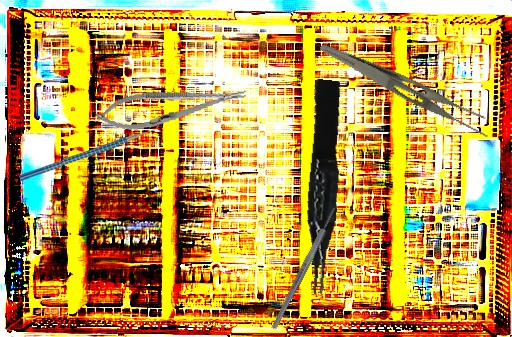Chopper: (18, 116, 163, 182)
Dressing Forceps: (311, 41, 498, 141)
Needle Holder: (94, 76, 249, 137)
Scalpel Handle: (269, 205, 339, 331)
Tissue Forceps: (293, 78, 351, 296)
